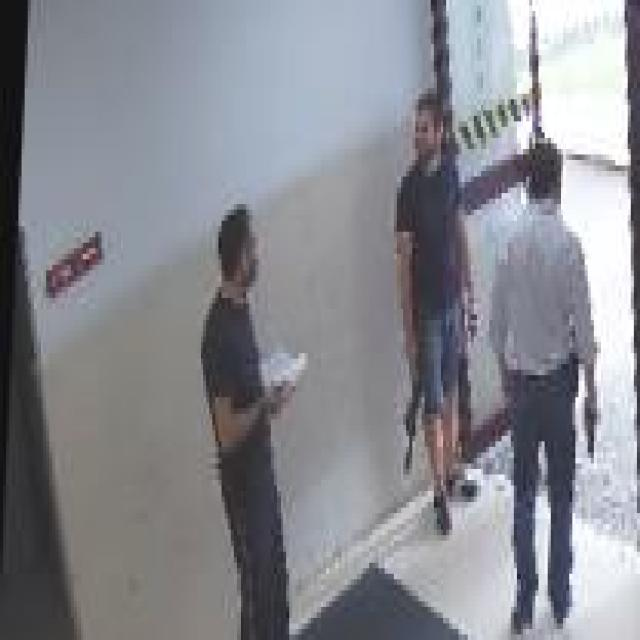Guns: (398, 328, 424, 488), (585, 388, 601, 451)
